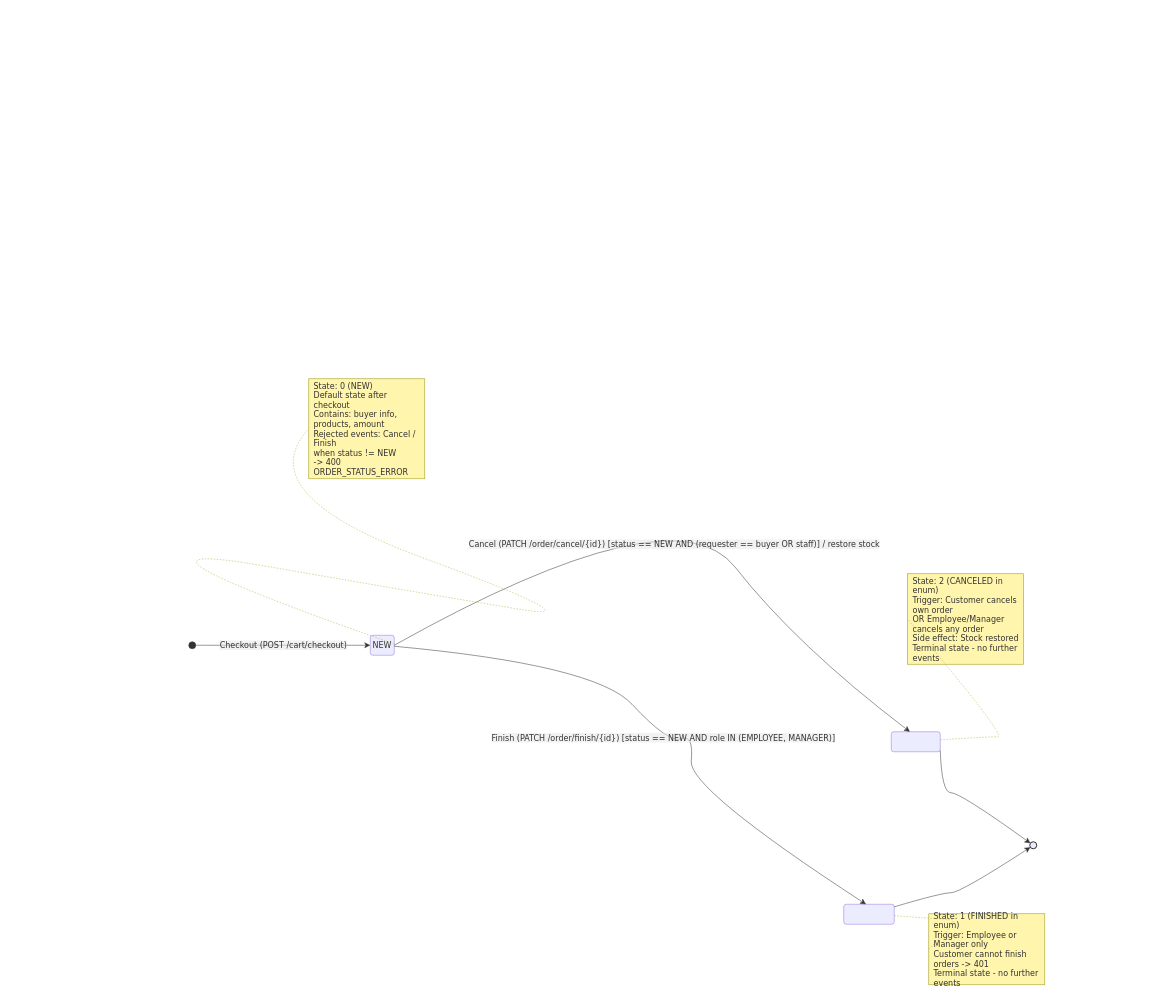
The diagram is 1160 pixels wide and 996 high, and some of its shapes have lost their labels. The shapes that lost their labels are listed below. From the top down, each one's centre as x and y in pixels, then its label:
(x=915, y=741): CANCELLED
(x=868, y=914): COMPLETED
